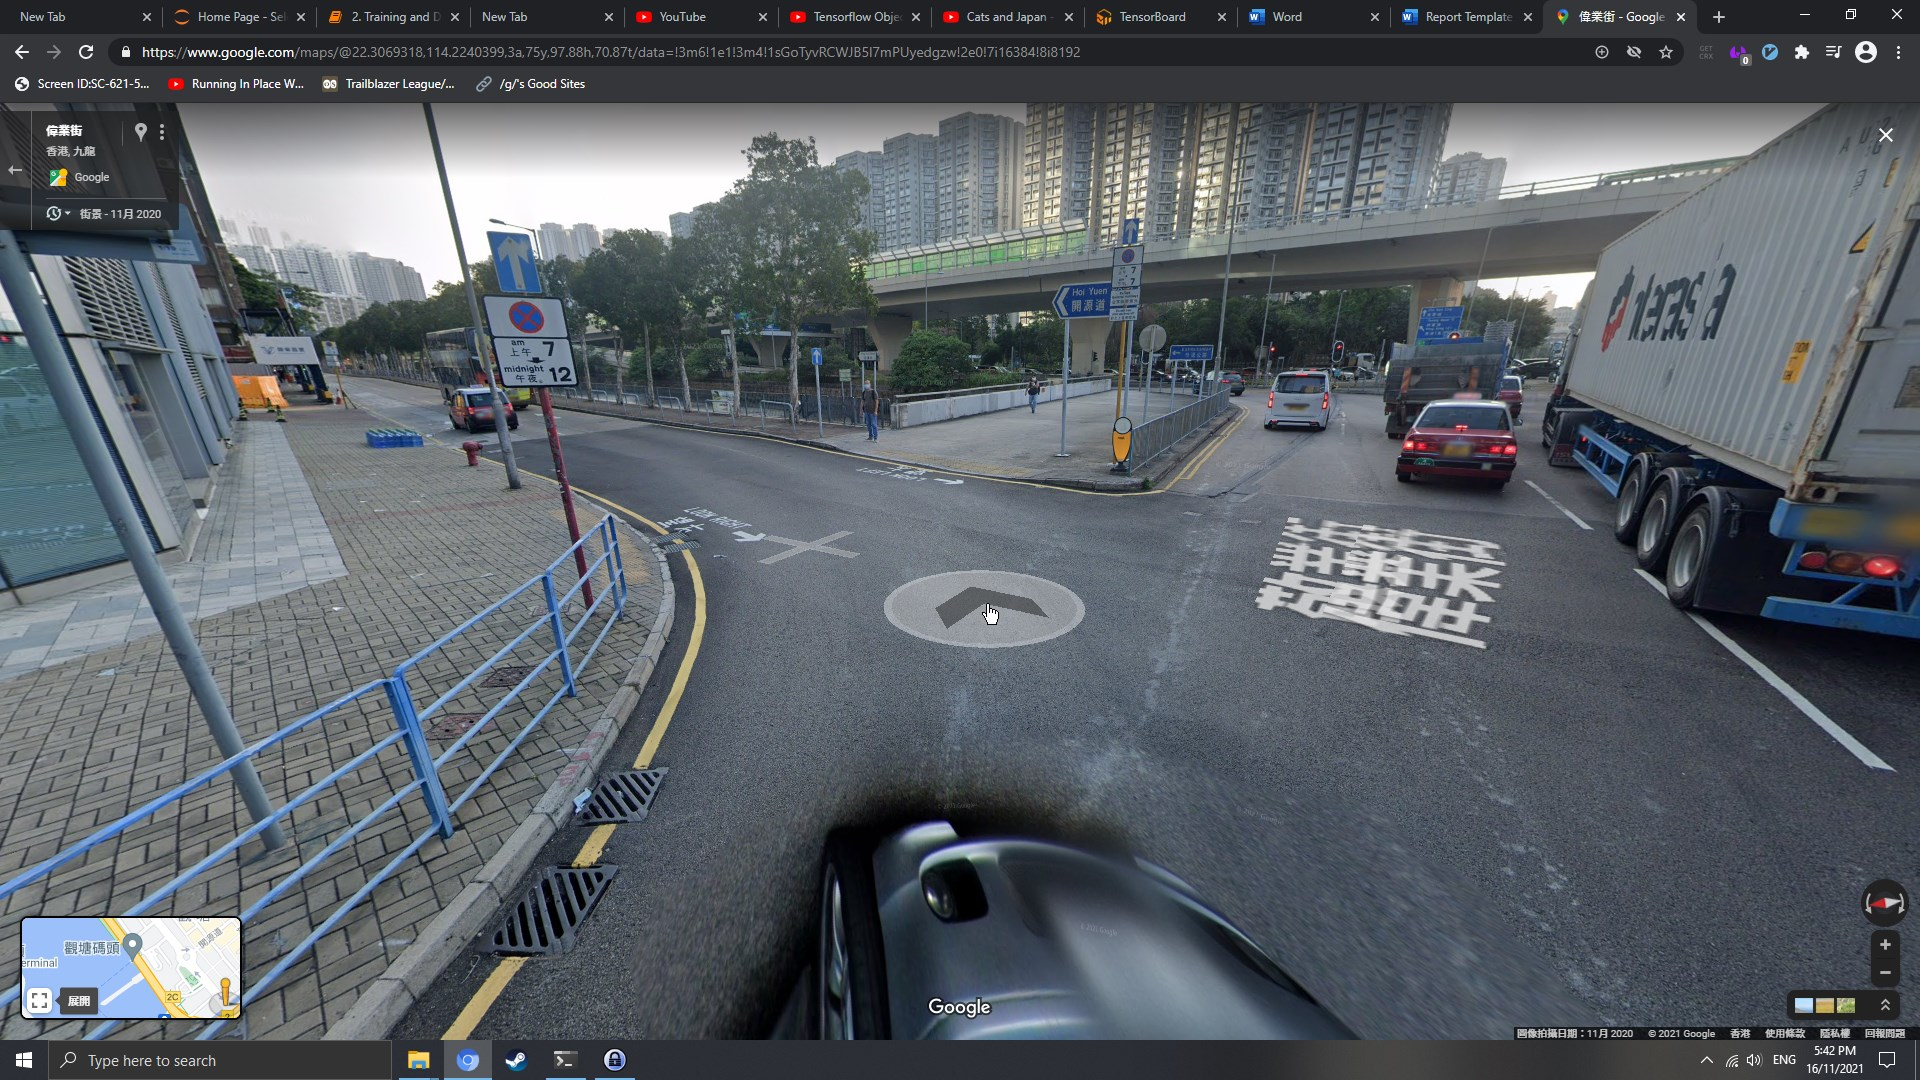NoStop: (508, 301, 545, 334)
